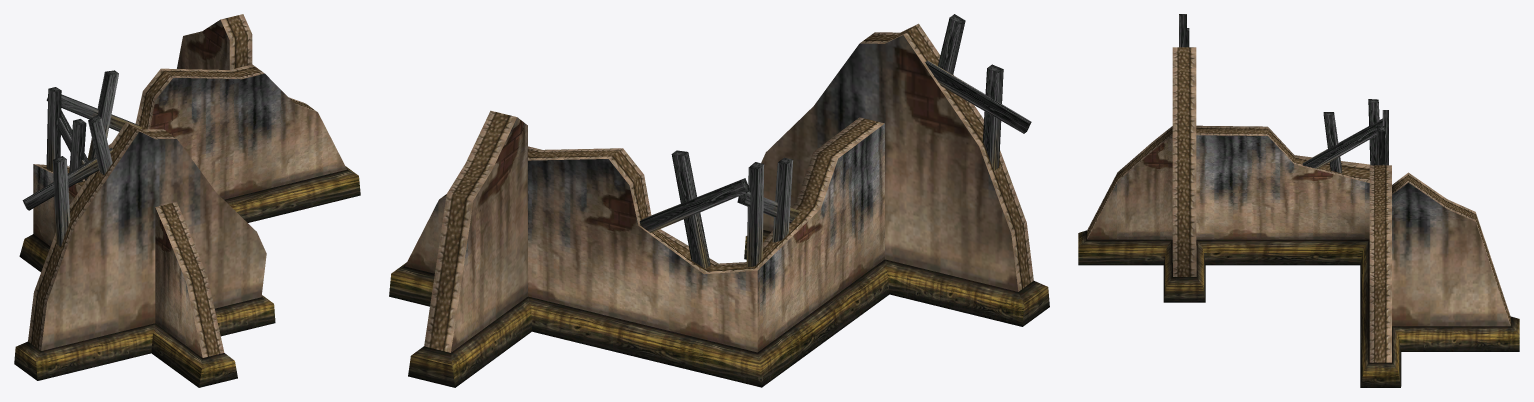
The model's file is CB_BRKN_BUILDING07_CM.fbx.
3 views of the same model, side by side, from view 1: azimuth 30°, elevation 25°; view 2: azimuth 150°, elevation 25°; view 3: azimuth 270°, elevation 25° (orthographic). The views are drawn at different scales.
Visible parts, largest first — view 1: CB_BRKN_BUILDING07_CM; view 2: CB_BRKN_BUILDING07_CM; view 3: CB_BRKN_BUILDING07_CM.
Part boxes in pixels (x1=…): CB_BRKN_BUILDING07_CM: x1=14, y1=14, x2=360, y2=387; CB_BRKN_BUILDING07_CM: x1=389, y1=14, x2=1049, y2=387; CB_BRKN_BUILDING07_CM: x1=1078, y1=14, x2=1519, y2=387.
Bounding box in the file's own units: 246859 × 130296 × 242330.
5 materials, 5 textured.
